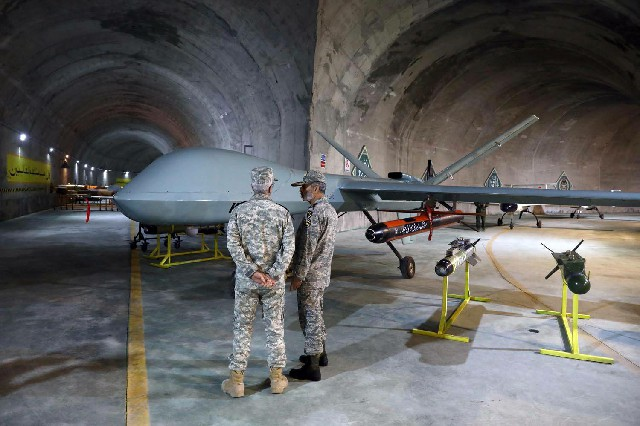maybay_khongnguoilai: (105, 138, 640, 255)
